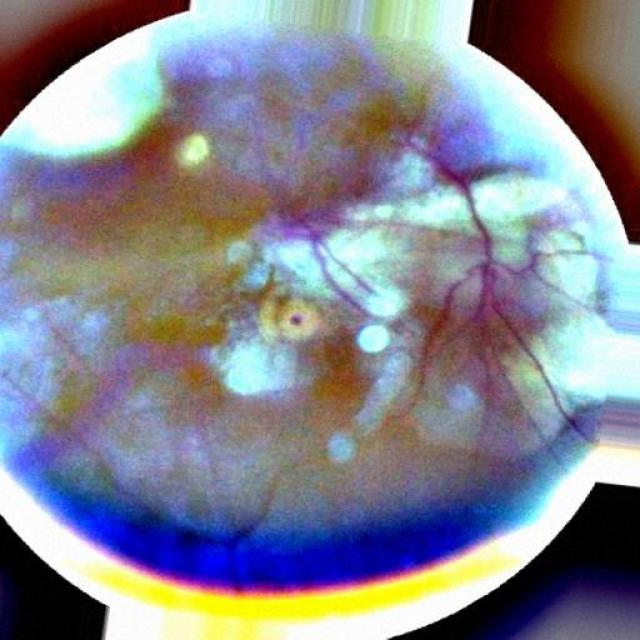Nerves: (395, 143, 602, 316)
